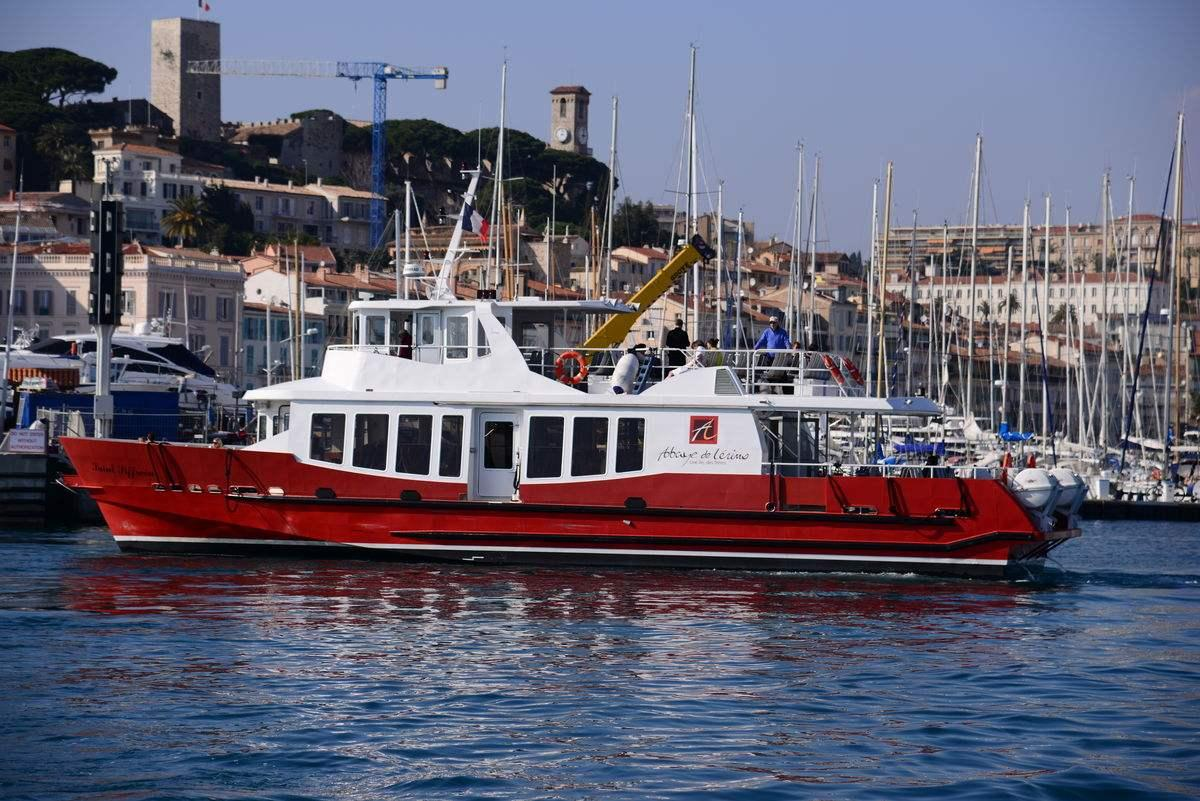otherboat: (58, 273, 1083, 576)
